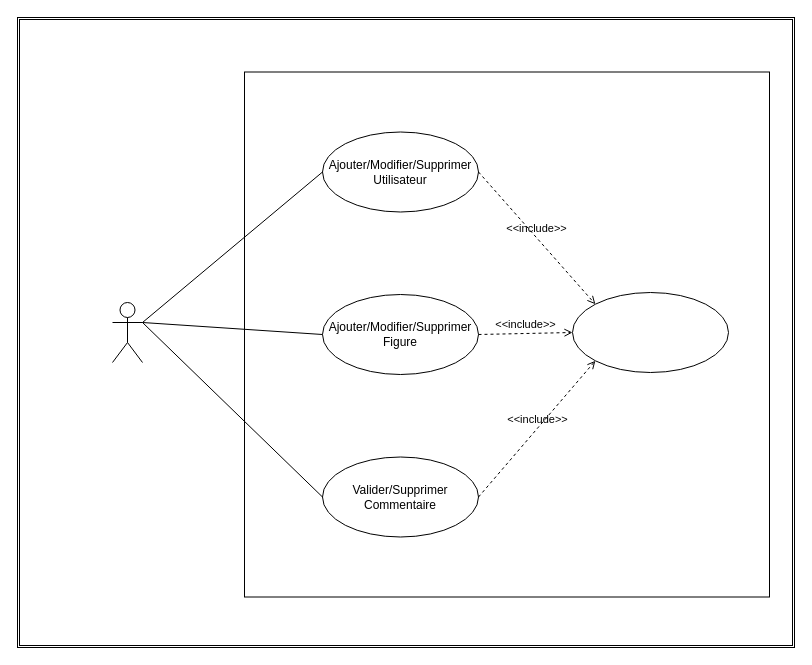
Some shapes in this 812 by 665 pixel diagram are drawn without their labels. Each missing label, with the centre of its shape:
Administrateur: point (127, 332)
S'authentifier: point (650, 332)
